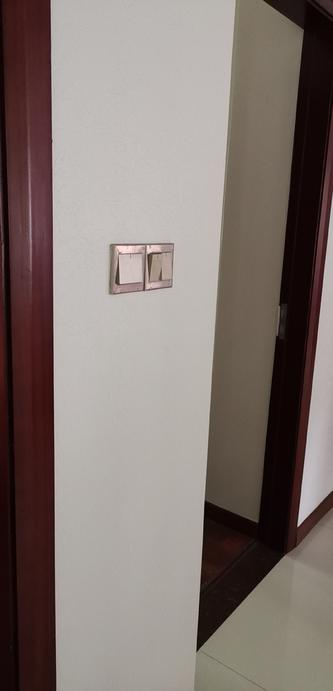switch: (119, 251, 144, 286), (148, 251, 161, 284), (160, 251, 172, 282)
